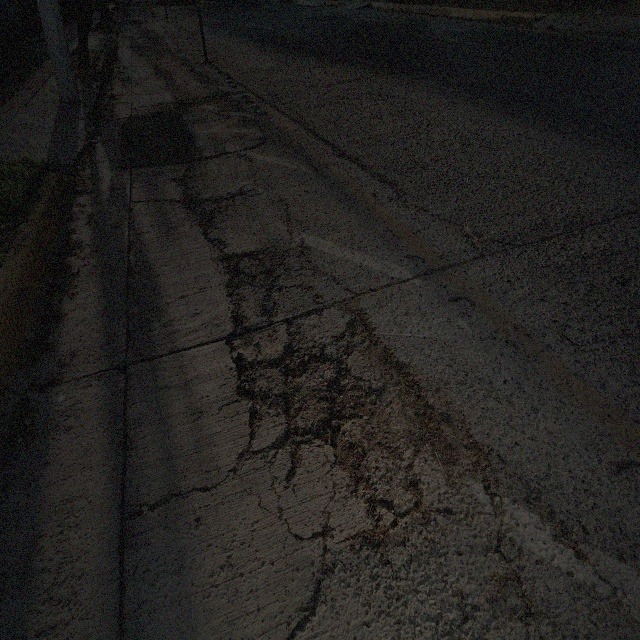pothole: (286, 324, 464, 528), (330, 298, 470, 531), (277, 334, 335, 440), (184, 192, 218, 239)
